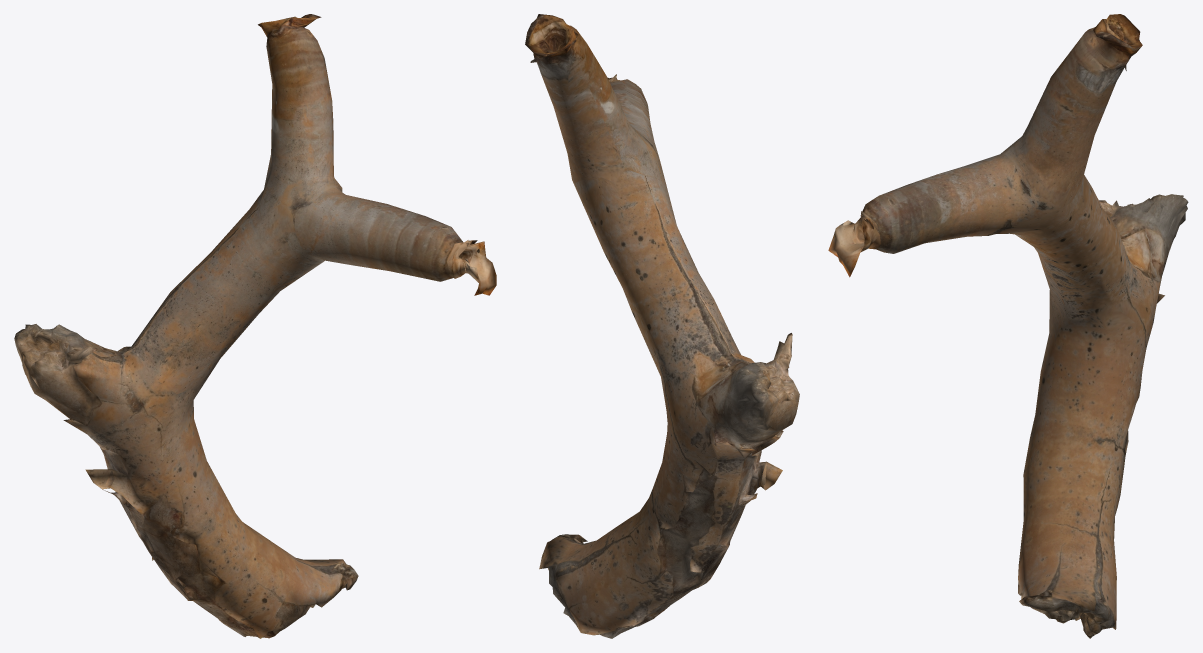
File: dead_quiver_branch_01.fbx
The picture shows the model from 3 angles, left to right: view 1: azimuth 30°, elevation 25°; view 2: azimuth 150°, elevation 25°; view 3: azimuth 270°, elevation 25°; orthographic projection. The views are drawn at different scales.
Parts seen in each view (by area): view 1: dead_quiver_branch_01; view 2: dead_quiver_branch_01; view 3: dead_quiver_branch_01.
Boxes of the visible parts, x1,y1,x2,y2 form: dead_quiver_branch_01: (14, 14, 496, 638); dead_quiver_branch_01: (525, 14, 799, 638); dead_quiver_branch_01: (828, 14, 1188, 638).
Bounding box in the file's own units: 0.2545 × 0.4375 × 0.2263.
Materials: 1 (1 with a texture image).
